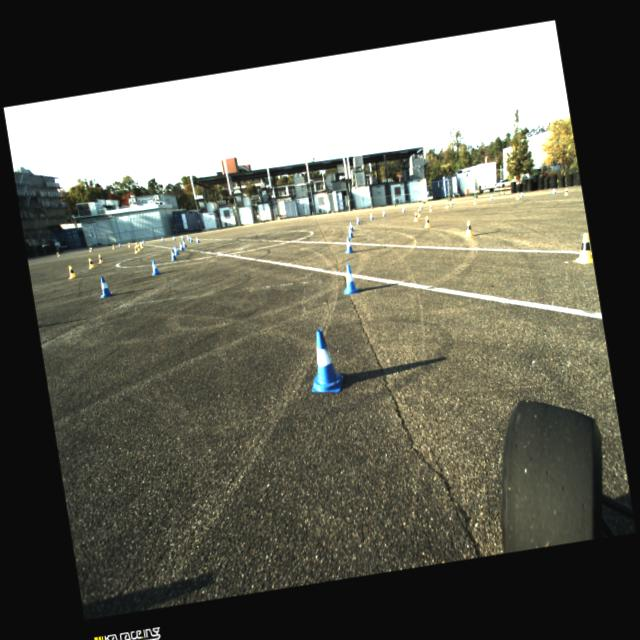blue_cone: (302, 326, 345, 396), (340, 263, 360, 296), (96, 275, 114, 298), (342, 236, 354, 253), (149, 258, 160, 276), (170, 248, 178, 261), (347, 226, 354, 238), (178, 241, 186, 251), (174, 246, 180, 256), (182, 240, 188, 248), (355, 217, 360, 226), (368, 213, 374, 220), (350, 222, 354, 232), (551, 188, 556, 194), (382, 210, 386, 217), (196, 236, 200, 243), (189, 235, 193, 242), (520, 191, 524, 197), (181, 235, 185, 241), (401, 207, 405, 212), (489, 195, 493, 200), (449, 200, 453, 205), (172, 236, 176, 240), (420, 204, 422, 210), (118, 243, 121, 247), (162, 236, 164, 241), (90, 247, 92, 251), (142, 240, 144, 243)
yellow_cone: (568, 232, 594, 266), (462, 220, 474, 238), (66, 264, 78, 278), (88, 256, 96, 270), (422, 215, 430, 228), (97, 254, 104, 264), (412, 212, 418, 222), (563, 188, 569, 196), (416, 210, 421, 218), (515, 192, 520, 200), (428, 205, 433, 212), (134, 246, 138, 254), (444, 202, 449, 208), (140, 241, 144, 248), (473, 198, 477, 204), (128, 242, 132, 248), (112, 244, 115, 250), (138, 245, 141, 251), (57, 252, 60, 257), (89, 247, 92, 252), (135, 242, 137, 246)
